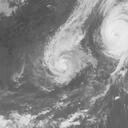cyclone: (43, 42, 93, 87), (98, 12, 127, 58)
